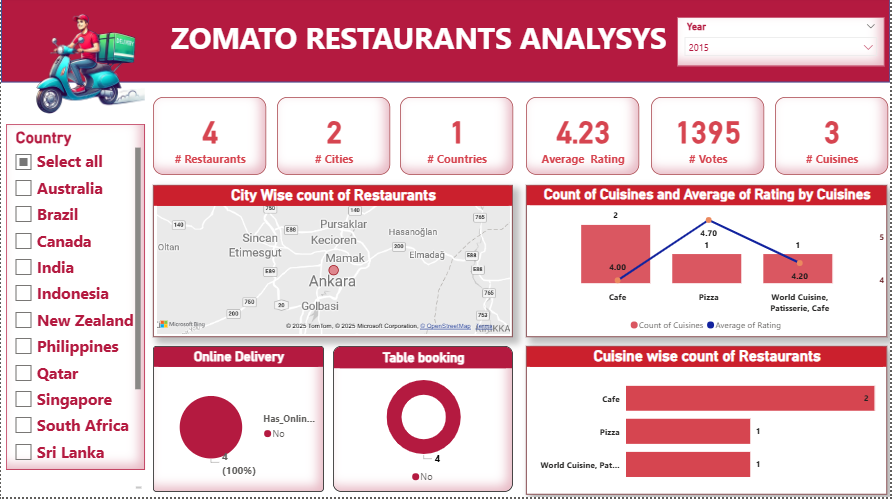

Layout of this report page (visuals, bound fields, positions):
{"tool":"powerbi","page":{"name":"Dashboard","canvas":[1280,720],"ordinal":0},"visuals":[{"type":"shape","box":[0,0,1280.4,122.9],"z":0},{"type":"image","box":[0,0,240.2,183.5],"z":1000},{"type":"textbox","box":[220,24.3,762.1,76],"z":2000},{"type":"card","fields":{"Values":["Count(restaurants.RestaurantID)"]},"box":[219.4,143.7,162.6,111.6],"z":3000},{"type":"card","fields":{"Values":["Count(restaurants.City)"]},"box":[397.2,143.7,162.6,111.6],"z":4000},{"type":"card","fields":{"Values":["Count(restaurants.CountryCode)"]},"box":[574.9,143.7,162.6,111.6],"z":5000},{"type":"card","fields":{"Values":["Avg(restaurants.Rating)"]},"box":[756.5,143.7,162.6,111.6],"z":6000},{"type":"card","fields":{"Values":["Sum(restaurants.Votes)"]},"box":[936.2,143.7,162.6,111.6],"z":7000},{"type":"card","fields":{"Values":["Count(restaurants.Cuisines)"]},"box":[1114,143.7,162.6,111.6],"z":8000},{"type":"slicer","fields":{"Values":["countries.country name"]},"box":[7.2,182.9,200.2,498.2],"z":9000},{"type":"lineStackedColumnComboChart","fields":{"Y":["CountNonNull(restaurants.Cuisines)"],"Category":["restaurants.Cuisines"],"Y2":["Avg(restaurants.Rating)"]},"box":[756.5,270.5,520.1,219.4],"z":10000},{"type":"map","title":"City Wise count of Restaurants","fields":{"Size":["CountNonNull(restaurants.RestaurantID)"],"Category":["restaurants.City"]},"box":[219.4,270.5,518.2,219.4],"z":11000},{"type":"clusteredBarChart","title":"Cuisine wise count of Restaurants","fields":{"Category":["restaurants.Cuisines"],"Y":["CountNonNull(restaurants.RestaurantID)"]},"box":[756.5,503.1,520.1,213.7],"z":12000},{"type":"pieChart","title":"Online Delivery","fields":{"Category":["restaurants.Has_Online_delivery"],"Y":["CountNonNull(restaurants.RestaurantID)"]},"box":[219.4,503.1,245.9,209.9],"z":13000},{"type":"donutChart","title":"Table booking ","fields":{"Category":["restaurants.Has_Table_booking"],"Y":["CountNonNull(restaurants.RestaurantID)"]},"box":[478.5,503.1,259.1,209.9],"z":14000},{"type":"slicer","fields":{"Values":["restaurants.Datekey_Opening.Variation.Date Hierarchy.Year"]},"box":[974,29.1,299.3,71.2],"z":15000},{"type":"textbox","box":[7.2,699.8,200.2,13],"z":16000}]}

Visuals, with their boxes in screenshot pixels (x1, y1, x2, y2), scaled from the page's 1280x720 canvas onto the 894x500 screenshot:
shape: bbox(0, 0, 893, 85)
image: bbox(0, 0, 168, 127)
textbox: bbox(154, 17, 686, 70)
card - Count(restaurants.RestaurantID): bbox(153, 100, 267, 177)
card - Count(restaurants.City): bbox(277, 100, 391, 177)
card - Count(restaurants.CountryCode): bbox(402, 100, 515, 177)
card - Avg(restaurants.Rating): bbox(528, 100, 642, 177)
card - Sum(restaurants.Votes): bbox(654, 100, 767, 177)
card - Count(restaurants.Cuisines): bbox(778, 100, 892, 177)
slicer - countries.country name: bbox(5, 127, 145, 473)
lineStackedColumnComboChart - CountNonNull(restaurants.Cuisines) x restaurants.Cuisines: bbox(528, 188, 892, 340)
"City Wise count of Restaurants" map: bbox(153, 188, 515, 340)
"Cuisine wise count of Restaurants" clusteredBarChart: bbox(528, 349, 892, 498)
"Online Delivery" pieChart: bbox(153, 349, 325, 495)
"Table booking " donutChart: bbox(334, 349, 515, 495)
slicer - restaurants.Datekey_Opening.Variation.Date Hierarchy.Year: bbox(680, 20, 889, 70)
textbox: bbox(5, 486, 145, 495)
